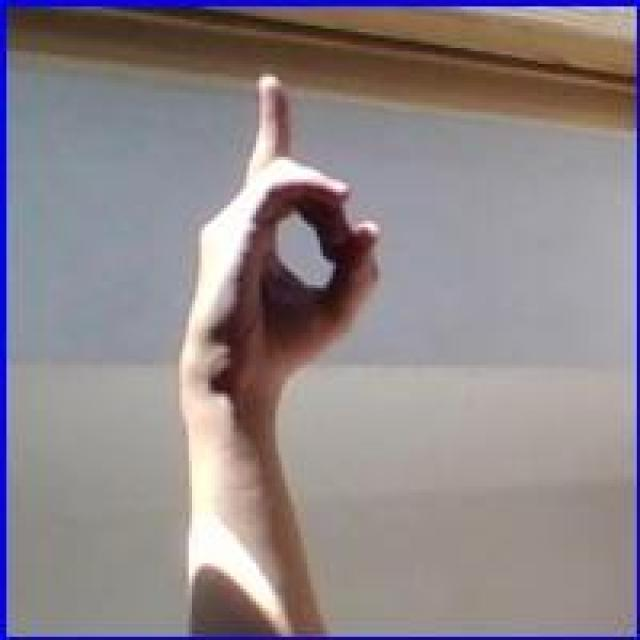D: (178, 70, 395, 438)
